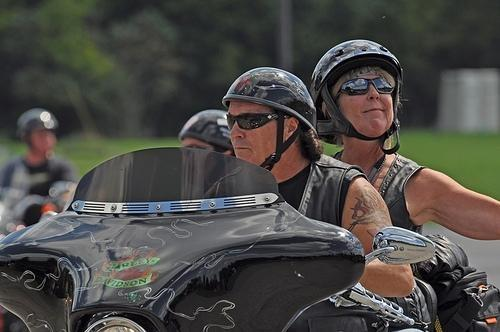motorcycle: (1, 146, 437, 328)
